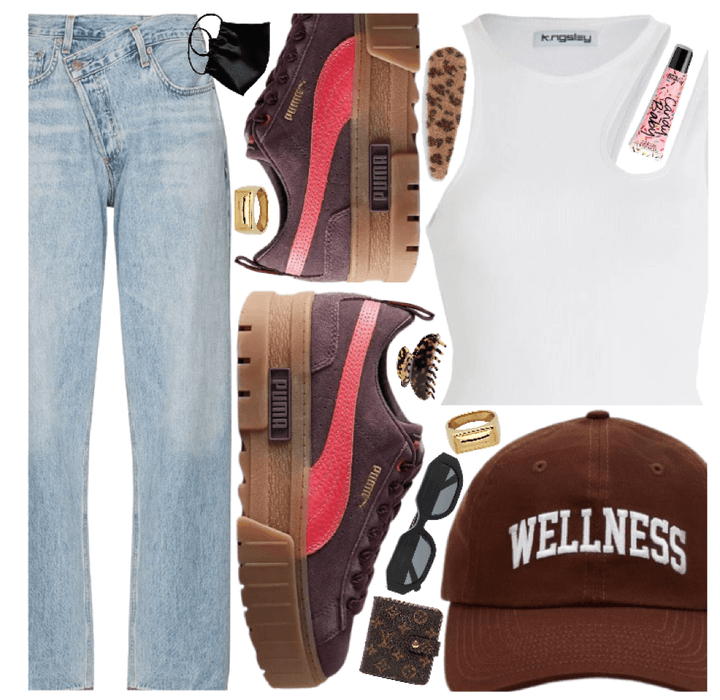аксесуары: (399, 324, 447, 402), (443, 405, 506, 455)
джинсы: (26, 9, 237, 689)
кроссовки: (241, 280, 422, 691), (246, 14, 422, 275)
майка: (439, 15, 720, 428)
шляпа: (433, 417, 720, 691)
